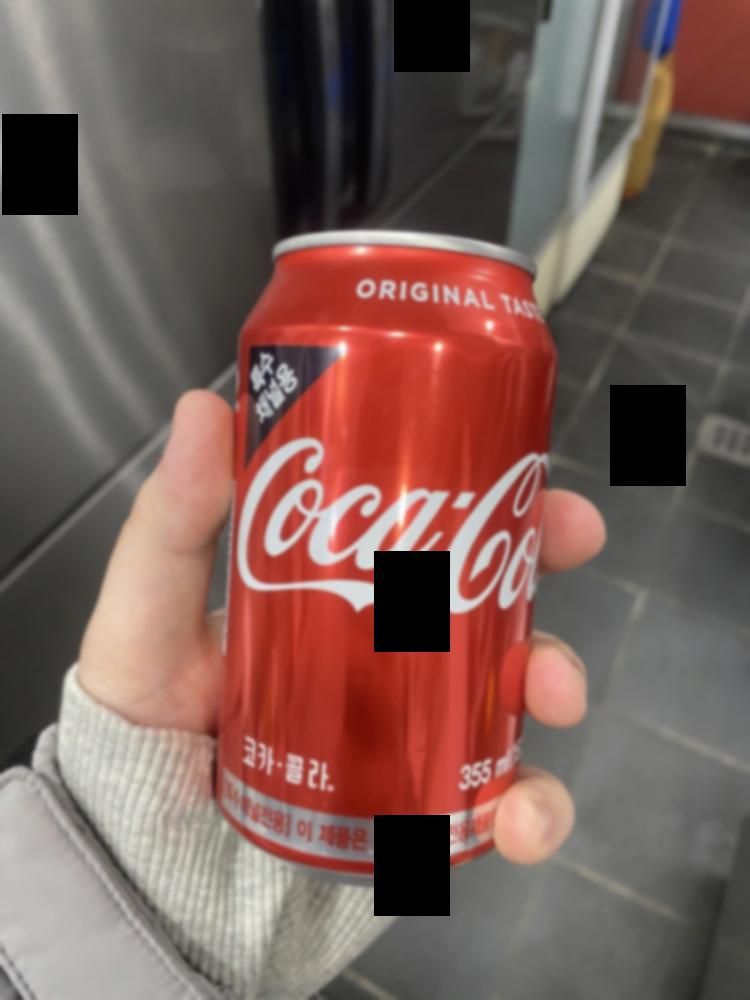cocacola: (229, 230, 528, 869)
